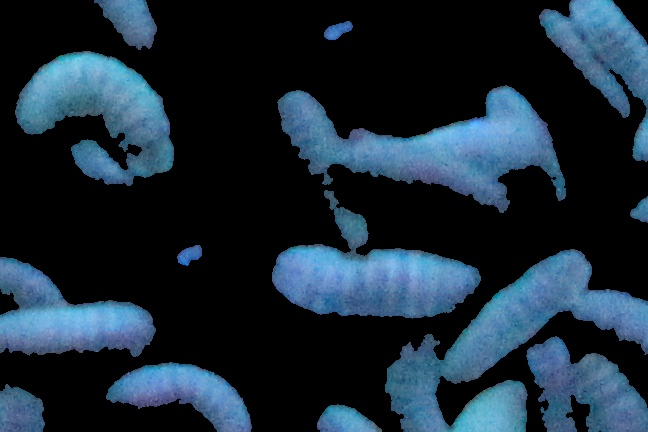larvae: (435, 252, 598, 382), (16, 52, 175, 177), (271, 243, 481, 329), (345, 125, 507, 221), (276, 90, 370, 250), (541, 1, 648, 121), (1, 299, 156, 366), (105, 364, 255, 432), (538, 8, 631, 116), (485, 84, 566, 202), (573, 353, 647, 432), (527, 337, 581, 432), (572, 284, 648, 340), (1, 256, 78, 304), (424, 111, 491, 161), (91, 1, 158, 50), (67, 139, 130, 185)
